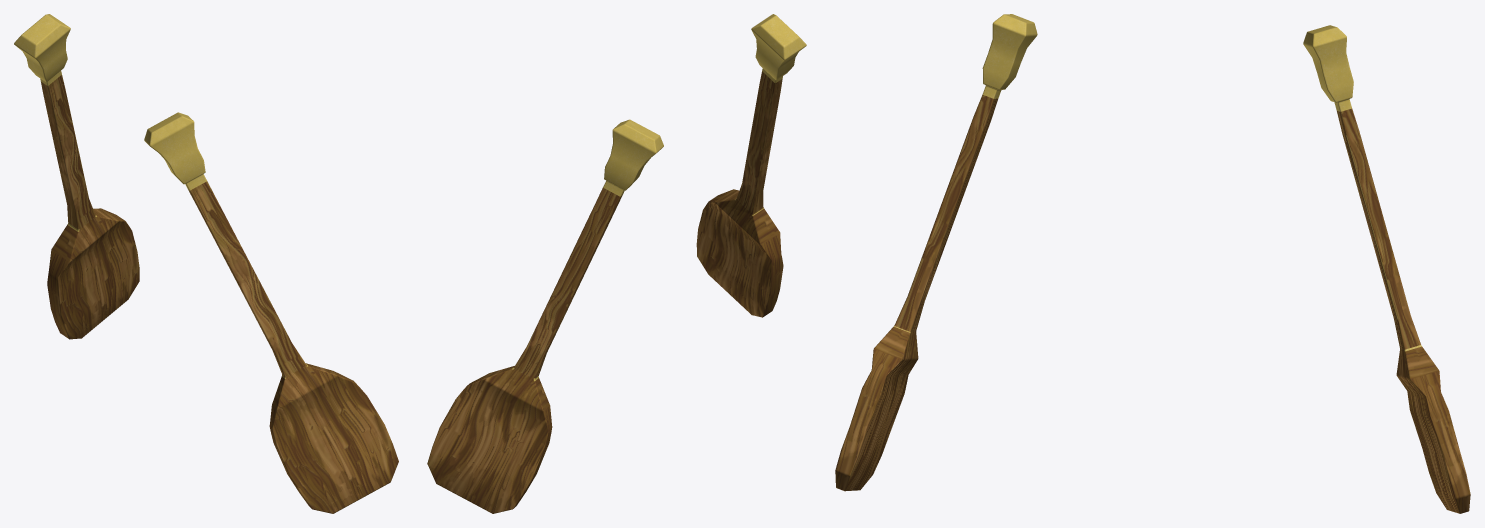
File: PFinal.fbx
3 renders of one model, left to right at view 1: azimuth 30°, elevation 25°; view 2: azimuth 150°, elevation 25°; view 3: azimuth 270°, elevation 25°, orthographic. The views are drawn at different scales.
Parts seen in each view (by area): view 1: Left Paddle, Right Paddle; view 2: Right Paddle, Left Paddle; view 3: Left Paddle, Right Paddle.
Part boxes in pixels (x1,y1,x2,y2): Left Paddle: (144, 112, 398, 513); Right Paddle: (14, 14, 139, 339); Right Paddle: (427, 119, 663, 513); Left Paddle: (696, 14, 806, 317); Left Paddle: (835, 14, 1037, 491); Right Paddle: (1303, 25, 1470, 513).
Size of the model in its own units: 178 by 354 by 459.
